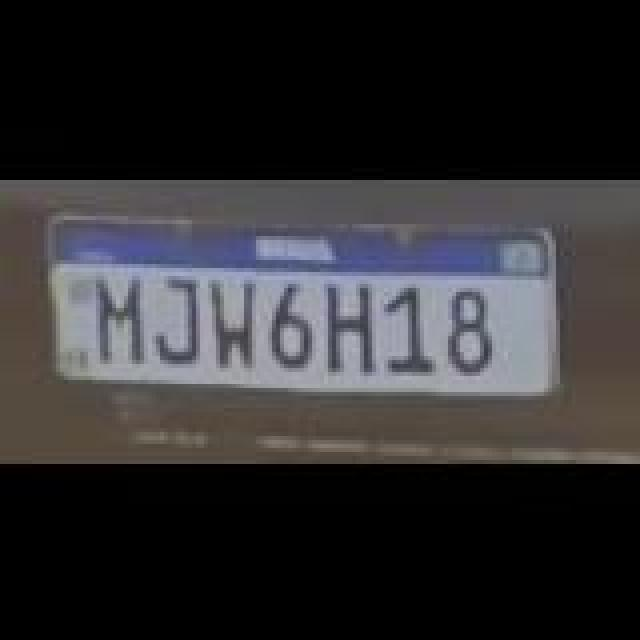1: (386, 284, 438, 372)
6: (266, 280, 318, 368)
8: (446, 286, 498, 370)
H: (324, 278, 380, 370)
J: (148, 276, 204, 364)
M: (92, 272, 148, 360)
W: (210, 274, 262, 366)
